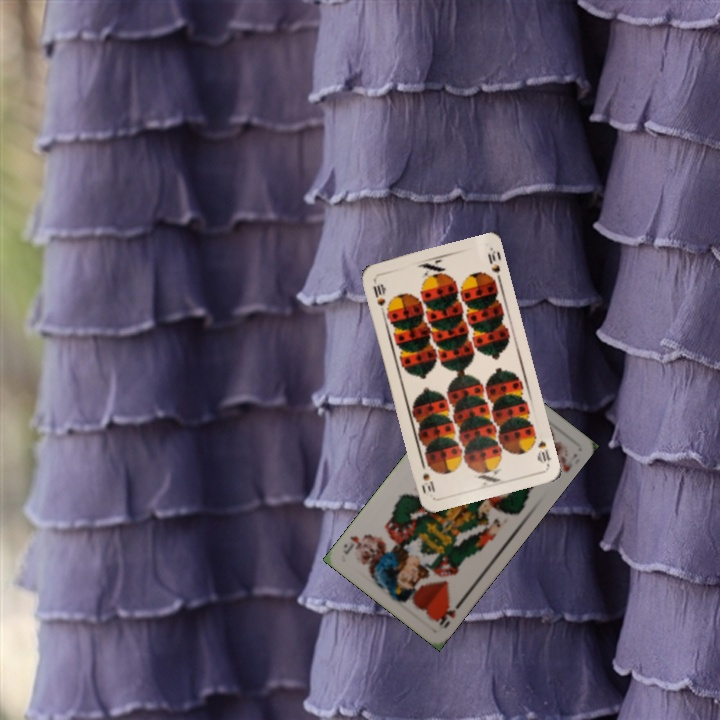HO: (432, 596, 466, 631)
S10: (369, 280, 392, 315), (533, 437, 554, 465)
